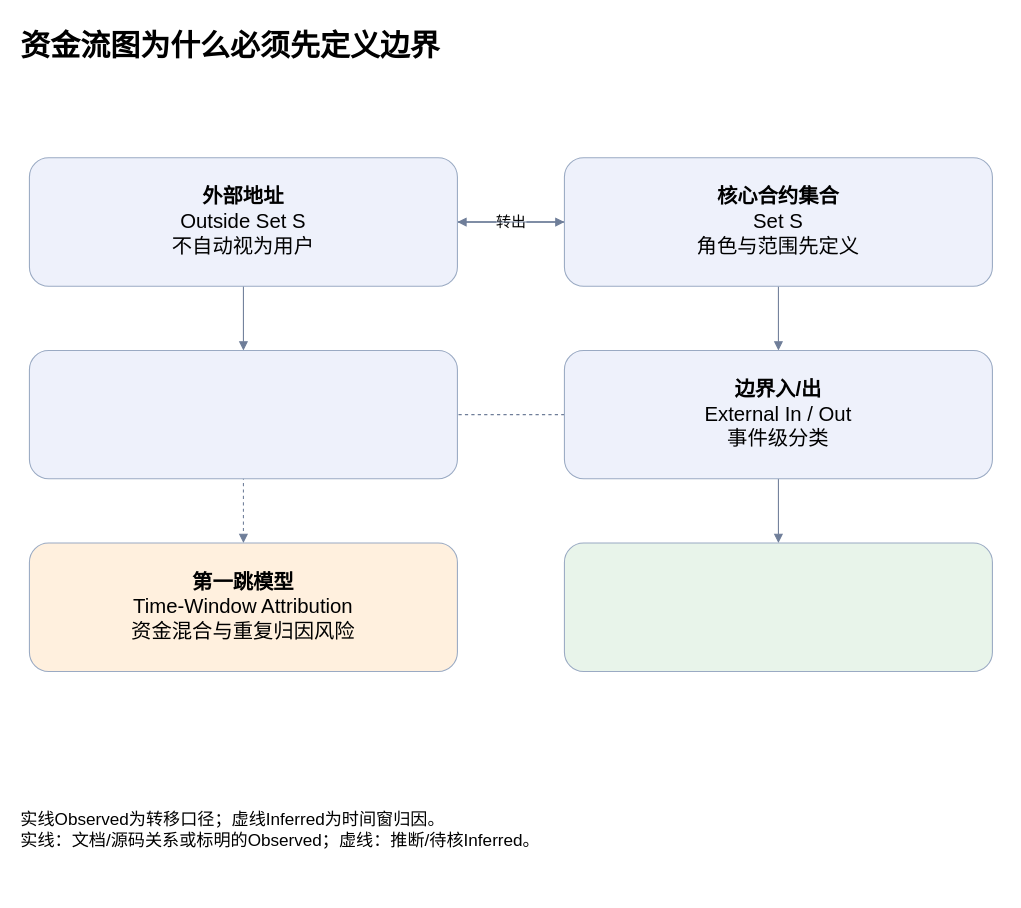
Some shapes in this 1021 by 908 pixel diagram are drawn without their labels. Each missing label, with the centre of its shape:
"内部互转 Internal Transfers 净外部流量中抵消" goes at point (242, 414).
"研究输出 Flow / Stock / Judgment 流入不等于收入" goes at point (777, 606).
